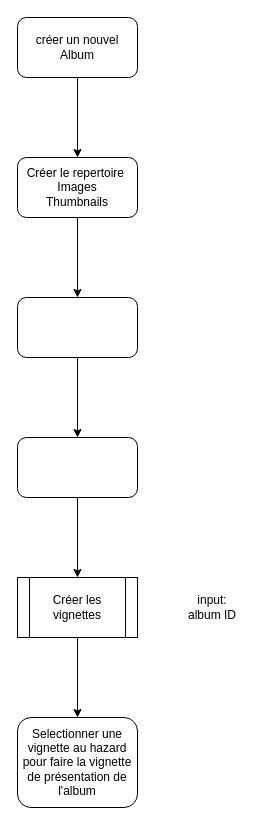
Image size: 260x825. Some labels were removed from this diagram. The shapes that lost their labels are listed below. From the top down, each one's centre as x and y in pixels, then its label:
At (77,327): "Télécharger les images".
At (77,467): "Renomer les images pour inclure la datetaken des exif en début de nom".
